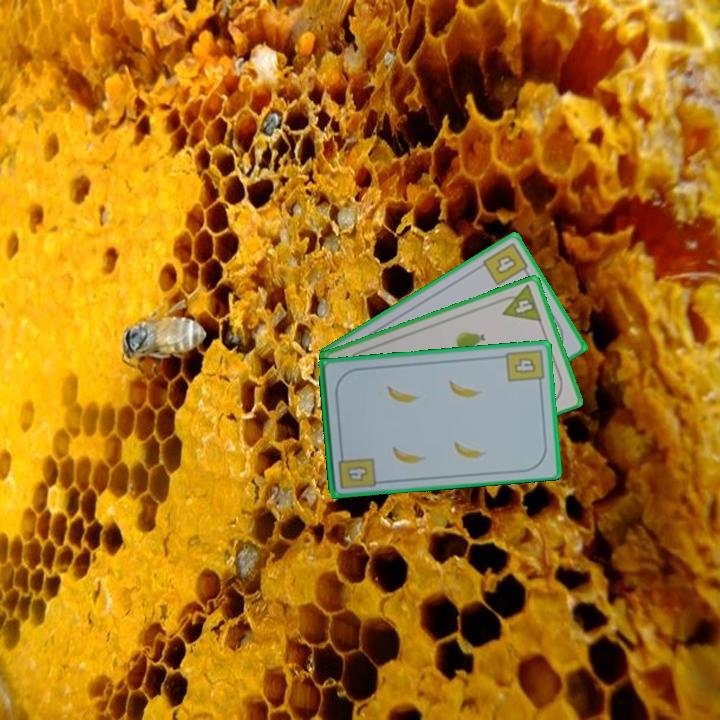4b: (479, 239, 533, 288), (502, 345, 546, 389), (334, 448, 378, 492)
4p: (495, 281, 544, 324)
